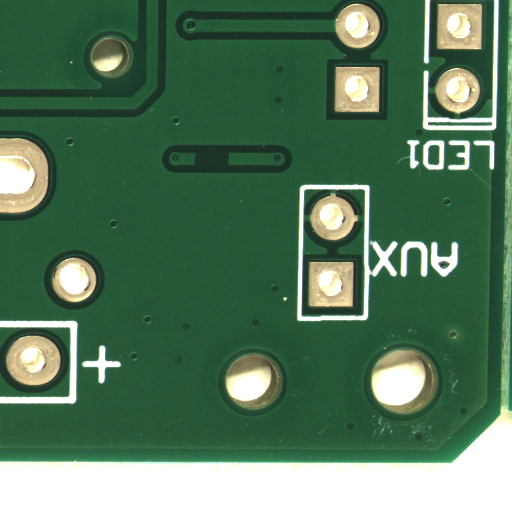Open_circuit: (211, 158, 247, 174)
